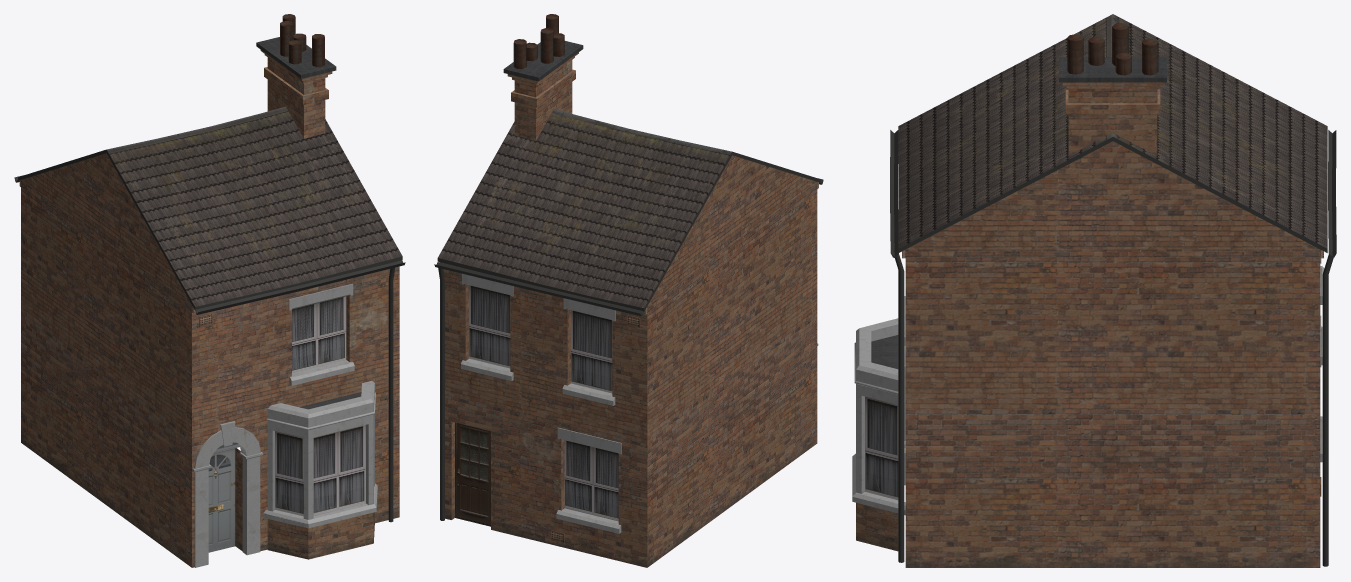
The model's file is ukterracedvictorian8.FBX.
3 renders of one model, left to right at view 1: azimuth 30°, elevation 25°; view 2: azimuth 150°, elevation 25°; view 3: azimuth 270°, elevation 25°, orthographic. The views are drawn at different scales.
Visible parts, largest first — view 1: Object003; view 2: Object003; view 3: Object003.
Part boxes in pixels (<box>): Object003: <box>14,14,405,567</box>; Object003: <box>434,14,823,567</box>; Object003: <box>852,14,1336,567</box>.
Bounding box in the file's own units: 560 × 1122 × 935.
